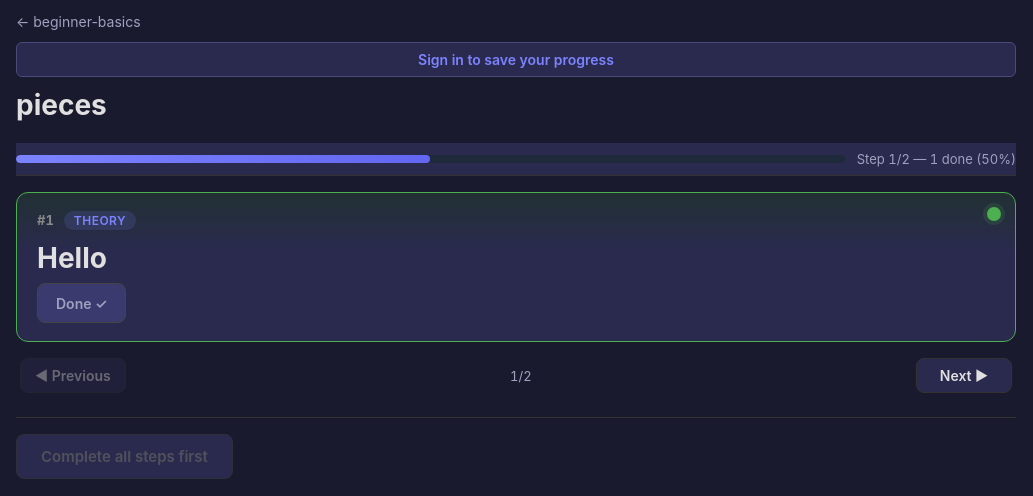
Test: LessonPage › KS-2076: на пройденном (done) шаге в нижней панели появляется «Далее»
# Клик переключает на следующий шаг.
Click the button with test id "lesson-step-nav-next" at (964, 376), box [916,358,1012,393]
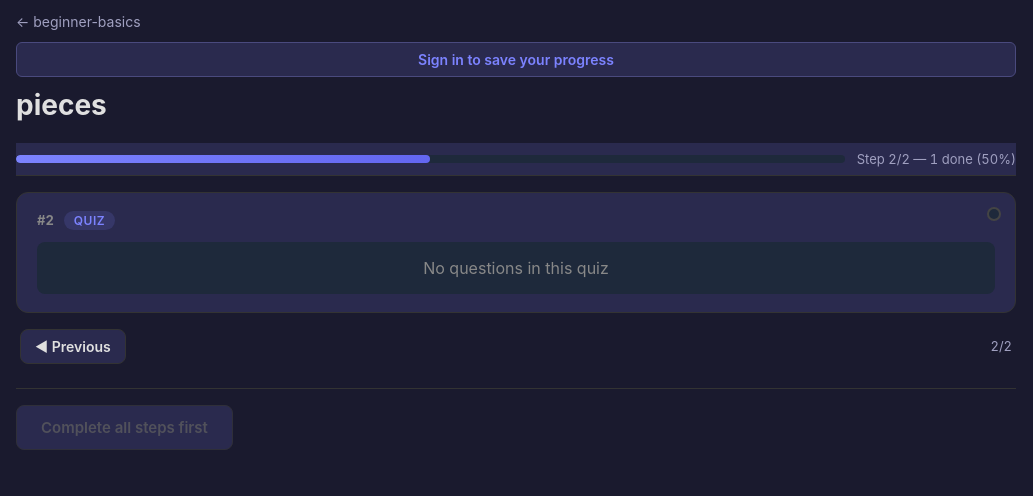
Now the list item with test id "lesson-step-2" is shown, box [16,192,1016,313]
Now the list item with test id "lesson-step-1" is gone
